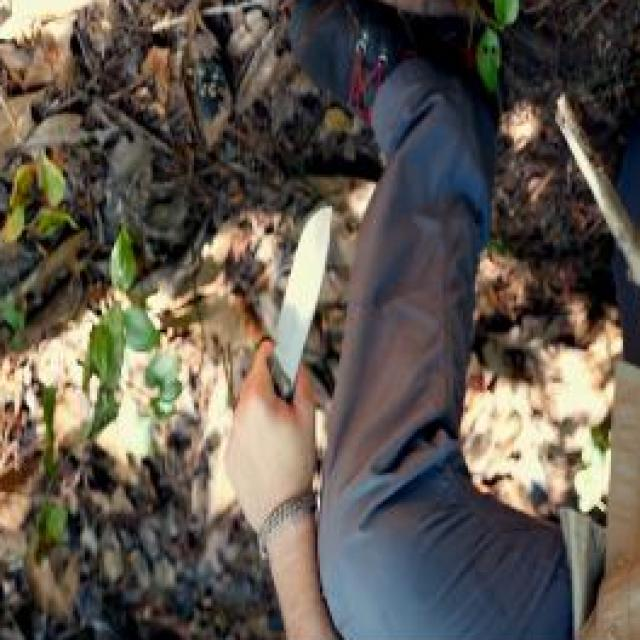knife: (220, 192, 340, 470)
